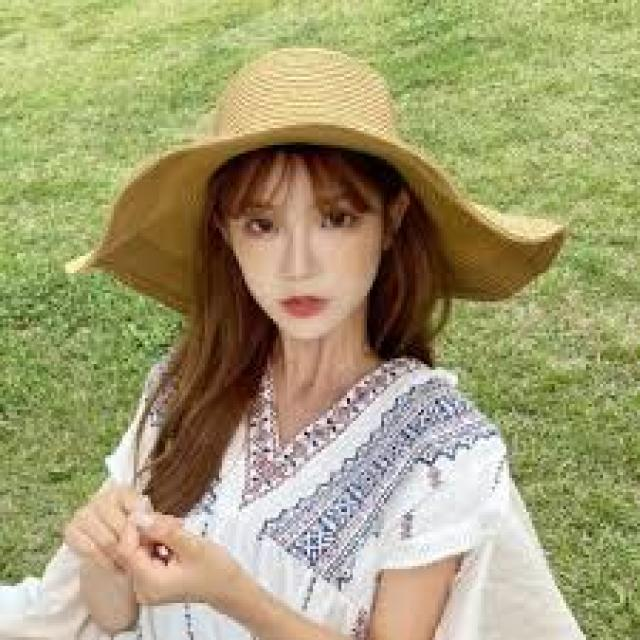hat: (57, 43, 569, 324)
